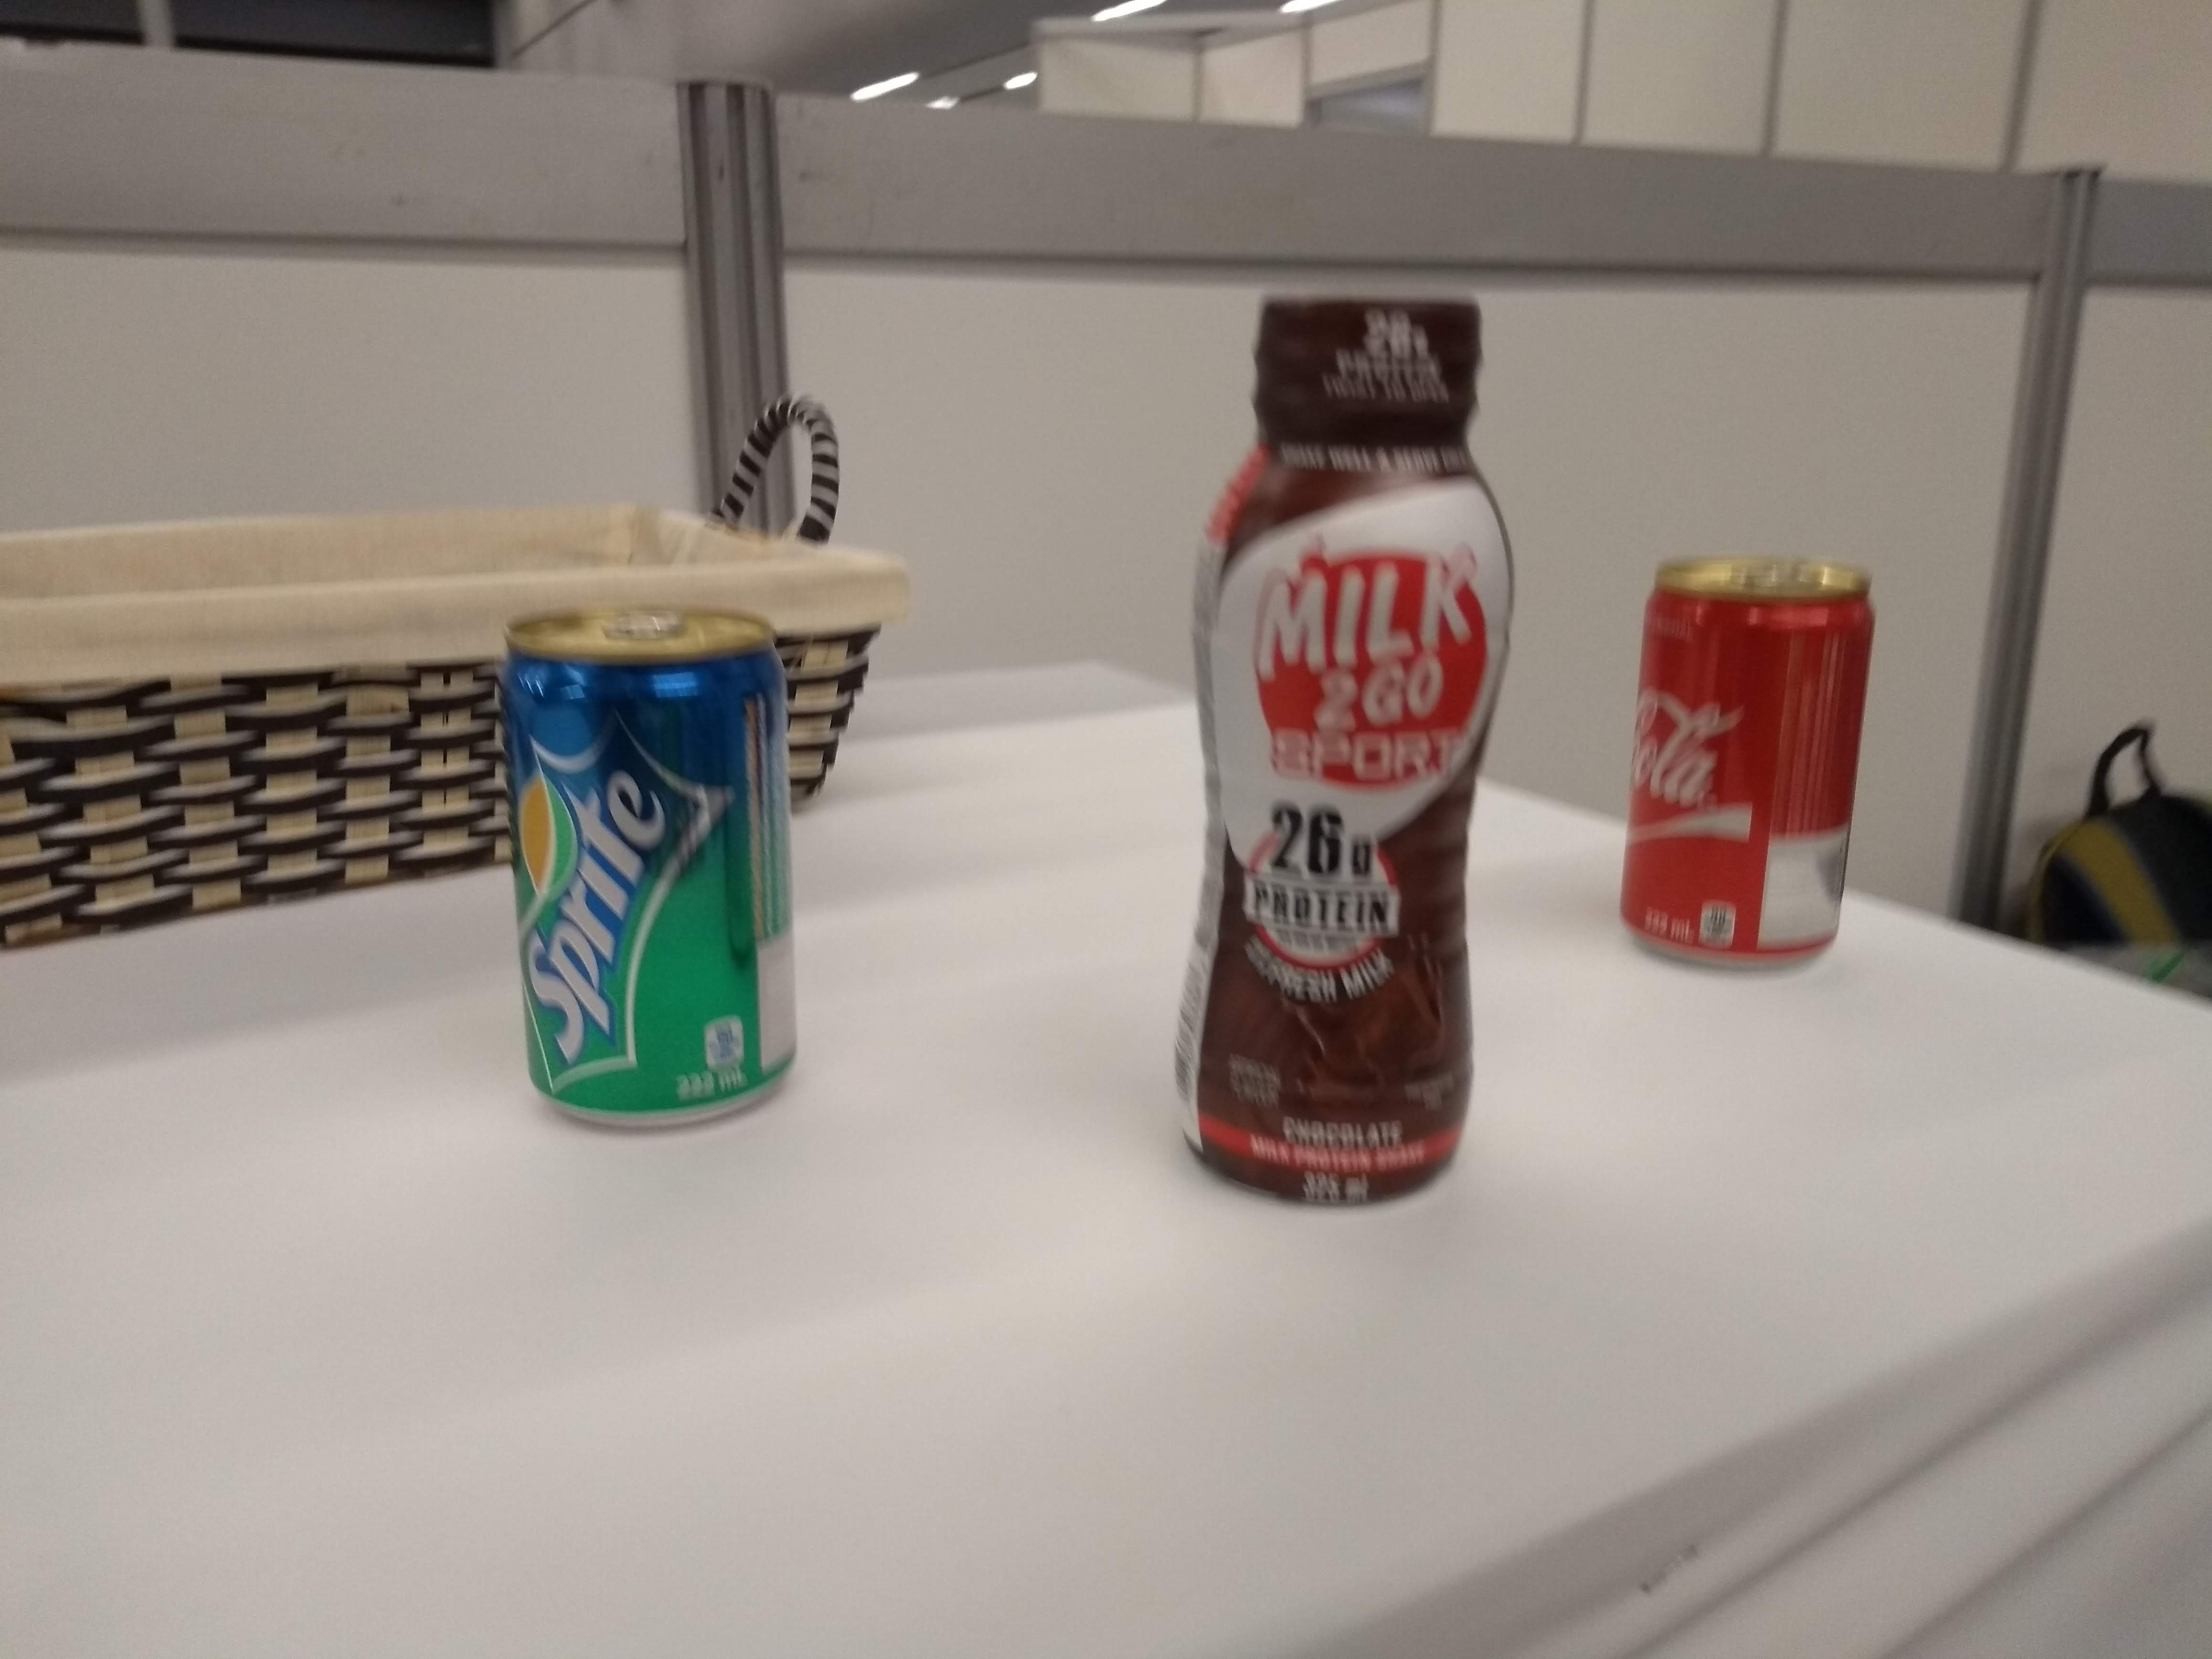chocolate_drink: (1155, 277, 1527, 1218)
coke: (1608, 542, 1897, 985)
sprite: (489, 598, 829, 1141)
